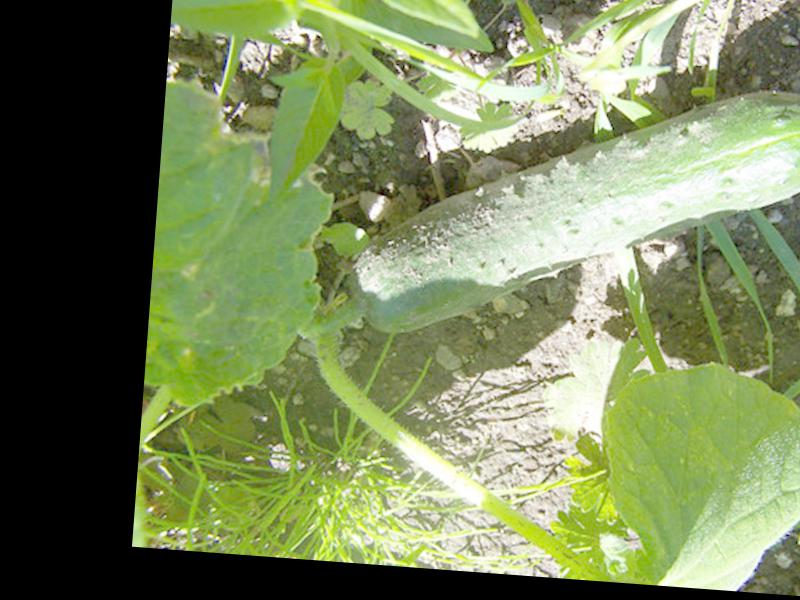Cucumber: (341, 59, 800, 367)
